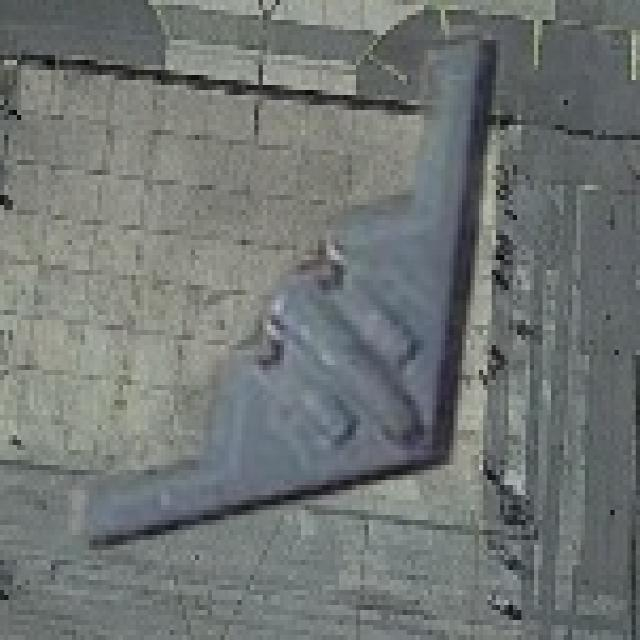B-2_TopDown: (64, 30, 500, 550)
